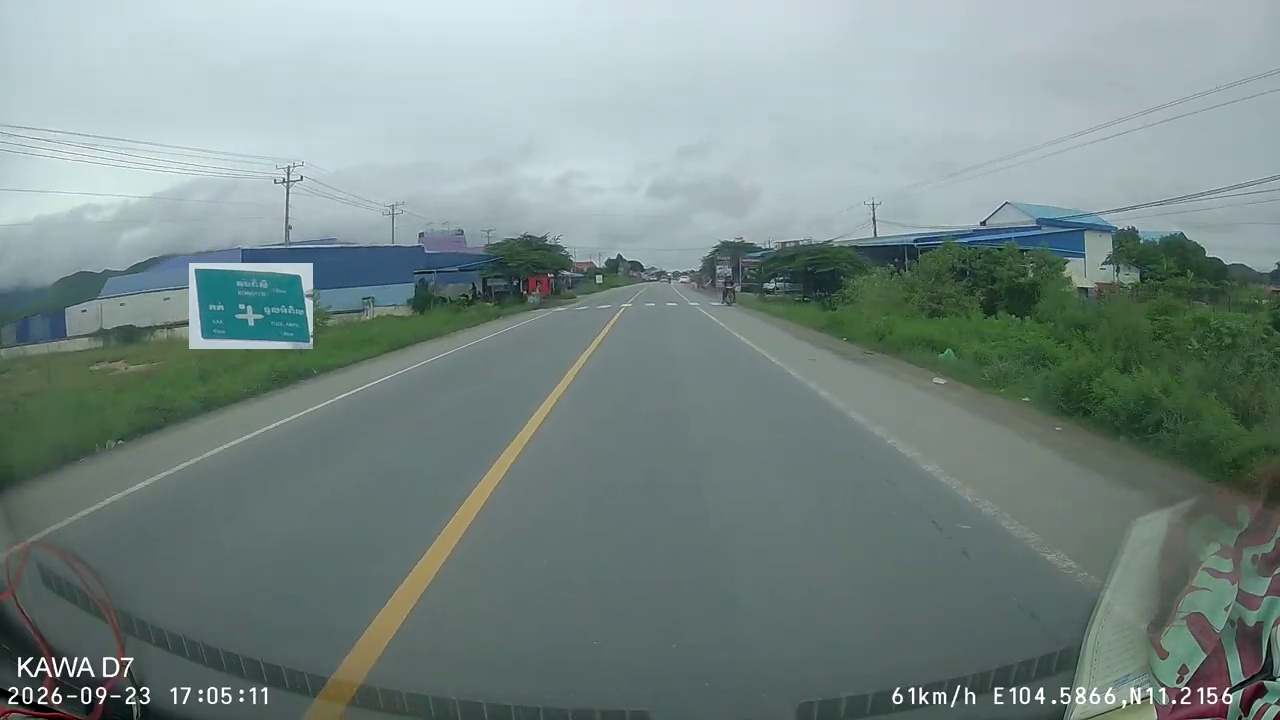direction_sign: (189, 263, 313, 349)
